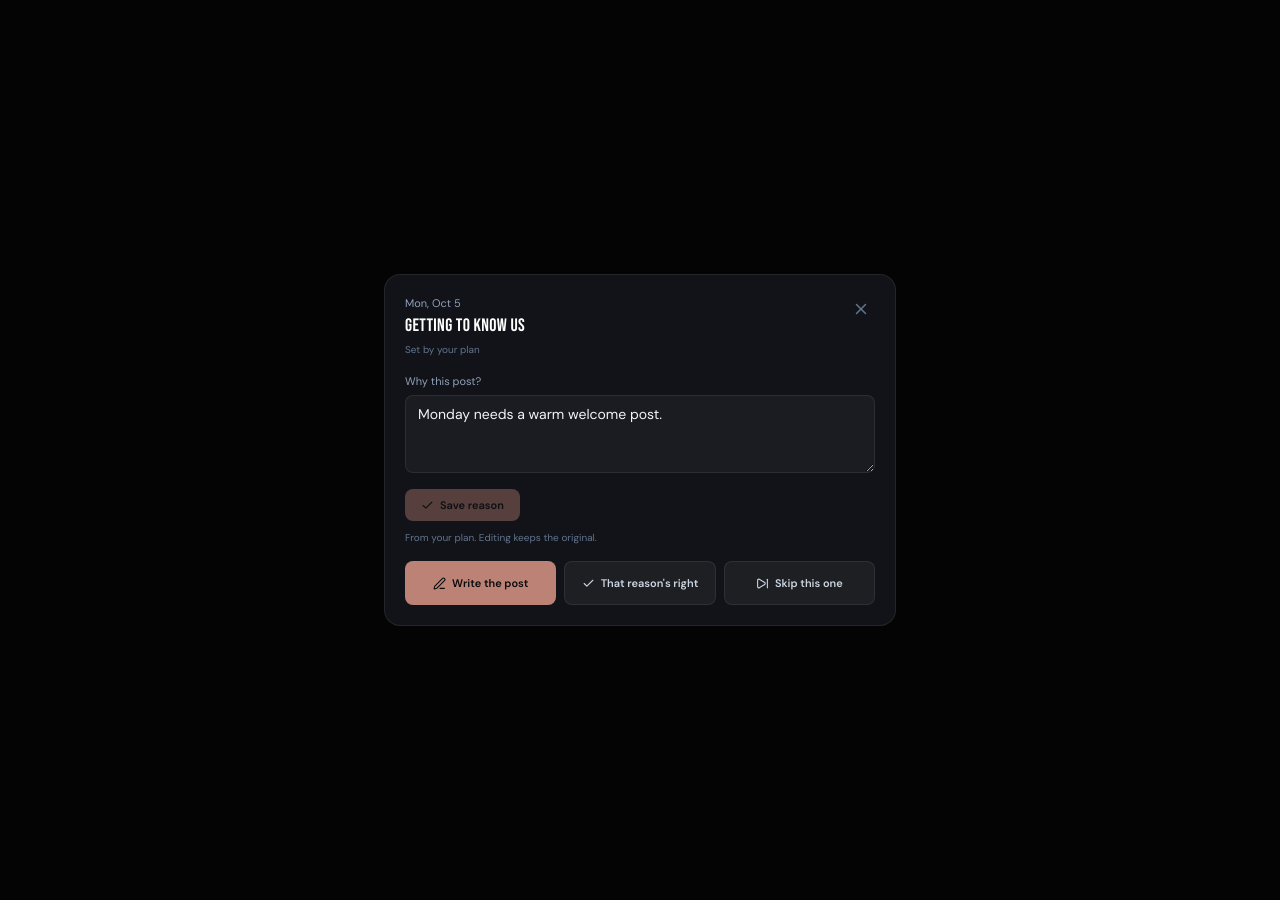
SlotPanel — an unsaved draft is never lost silently › asks before discarding a dirty draft, and does not close on its own
Replace the text in the text box labelled "Why this post?" with "Something she is part way through writing" at (640, 434), box [405,395,875,473]
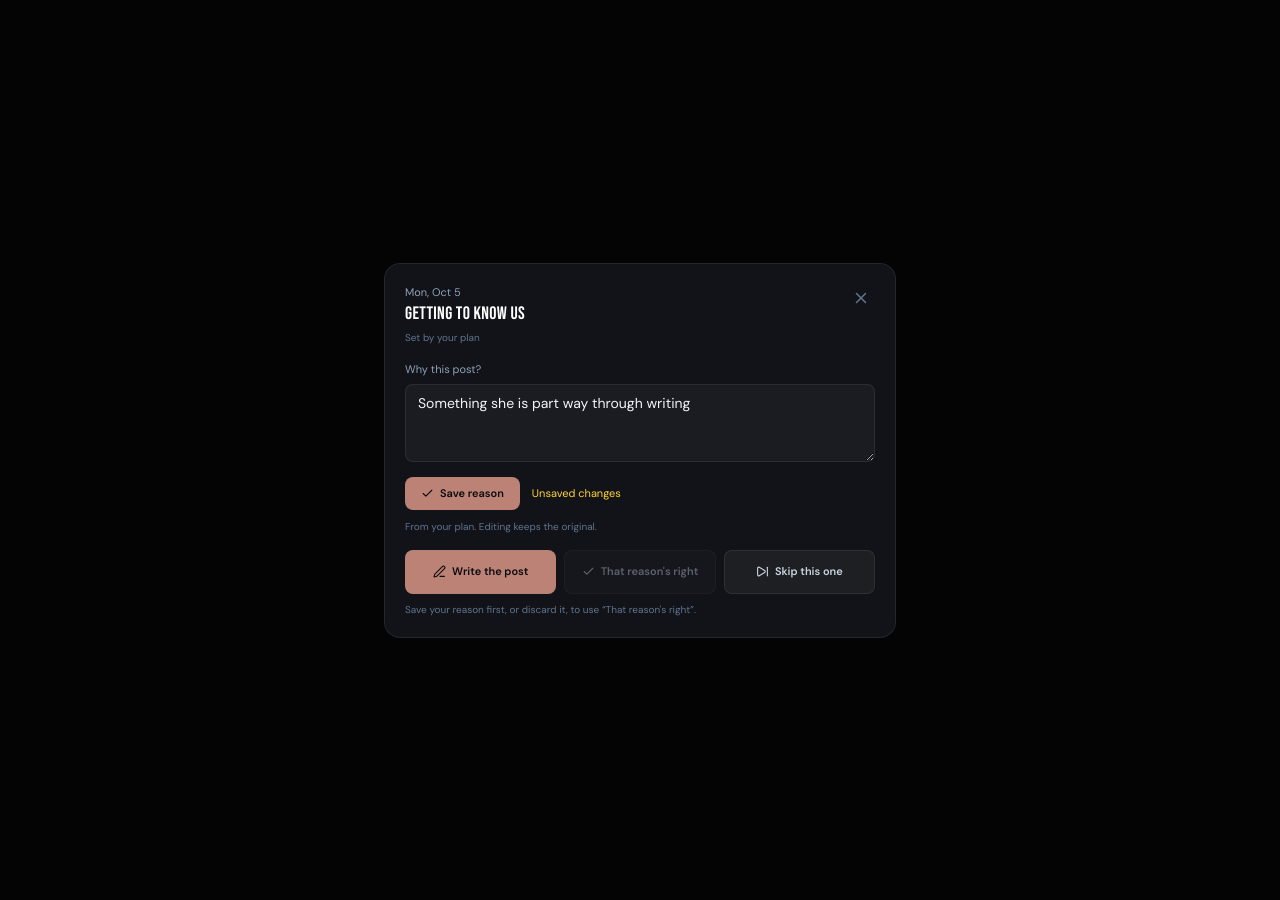
Click the button named "close" at (861, 298), box [839,276,883,320]
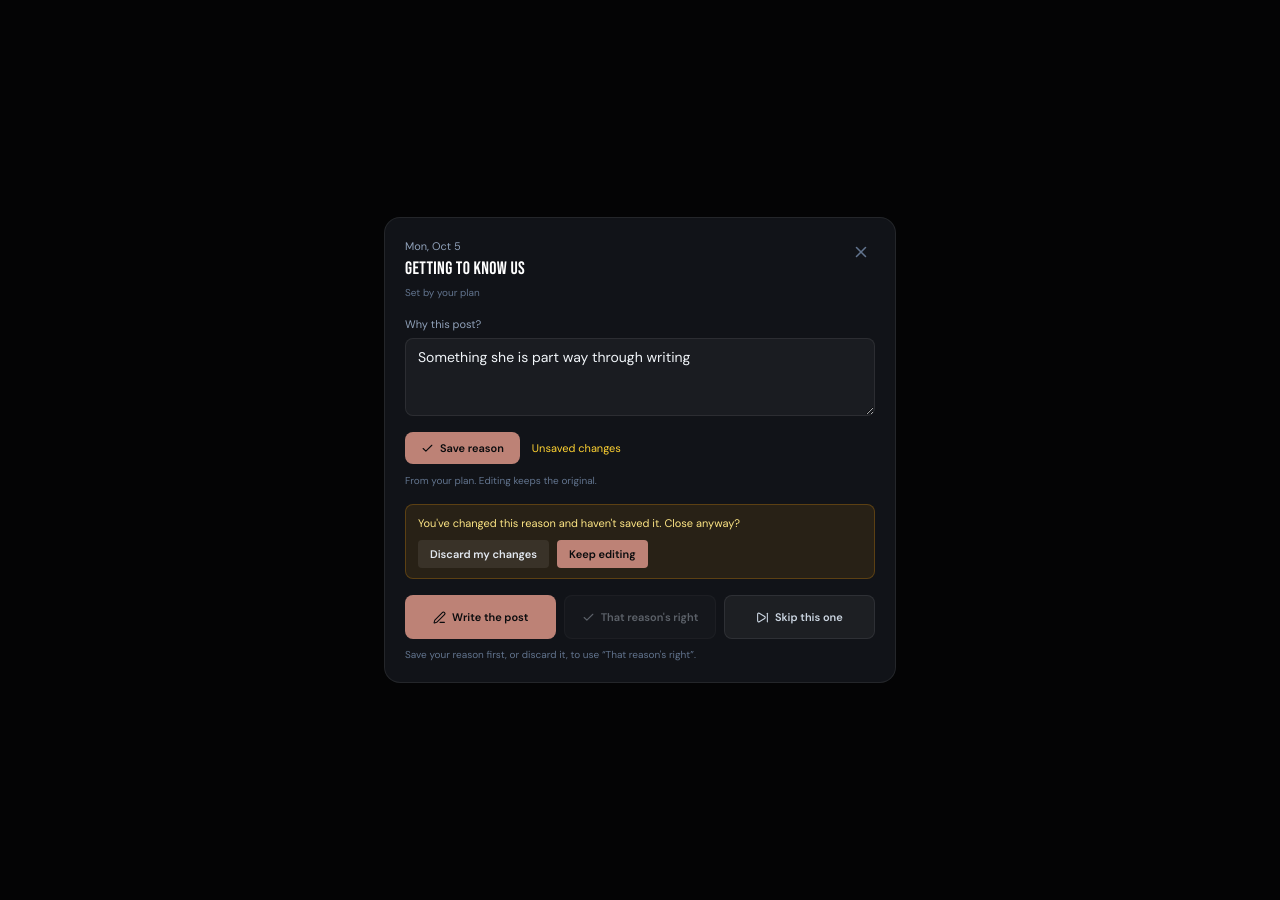
Now the text "haven't saved it" is shown, box [418,516,740,530]
